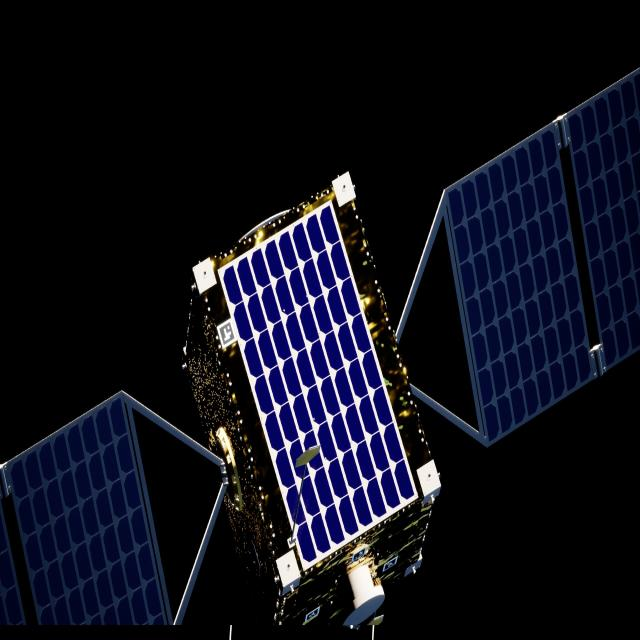satellite: (0, 67, 640, 640)
